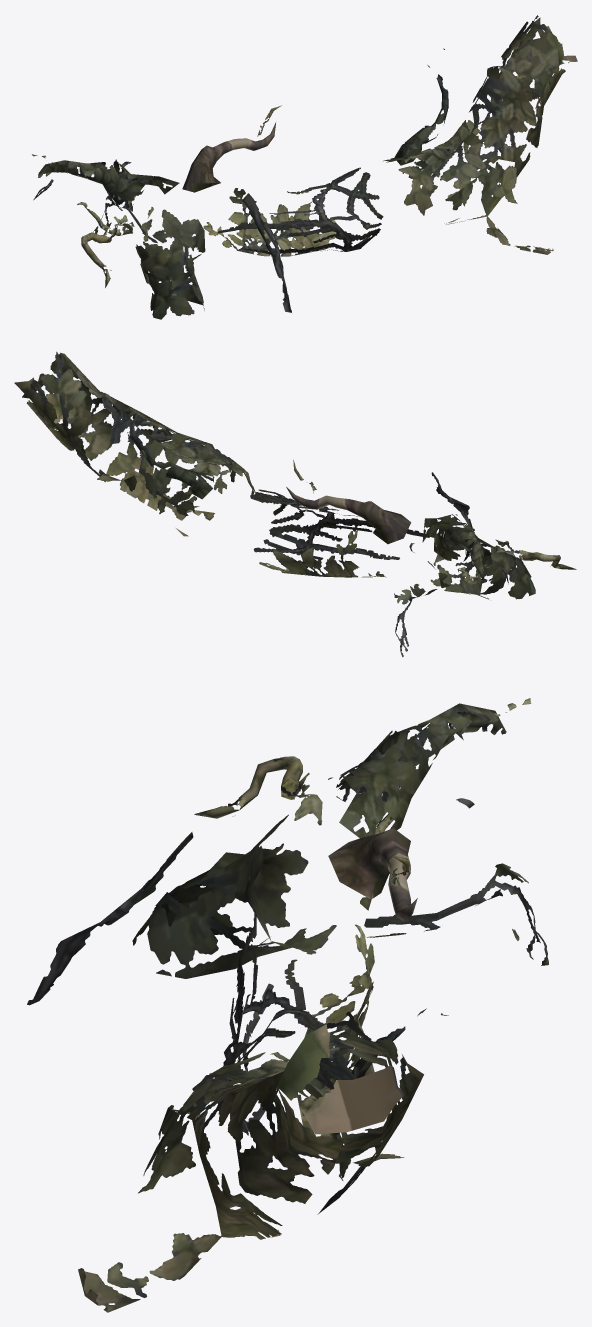
The model's file is Tree_1.FBX.
The picture shows the model from 3 angles, top to bottom: view 1: azimuth 30°, elevation 25°; view 2: azimuth 150°, elevation 25°; view 3: azimuth 270°, elevation 25°; orthographic projection. The views are drawn at different scales.
Parts seen in each view (by area): view 1: Tree_1; view 2: Tree_1; view 3: Tree_1.
Boxes of the visible parts, x1=… form: Tree_1: x1=32, y1=15, x2=577, y2=319; Tree_1: x1=14, y1=351, x2=576, y2=657; Tree_1: x1=27, y1=698, x2=548, y2=1312.
Size of the model in its own units: 646 by 215 by 318.
